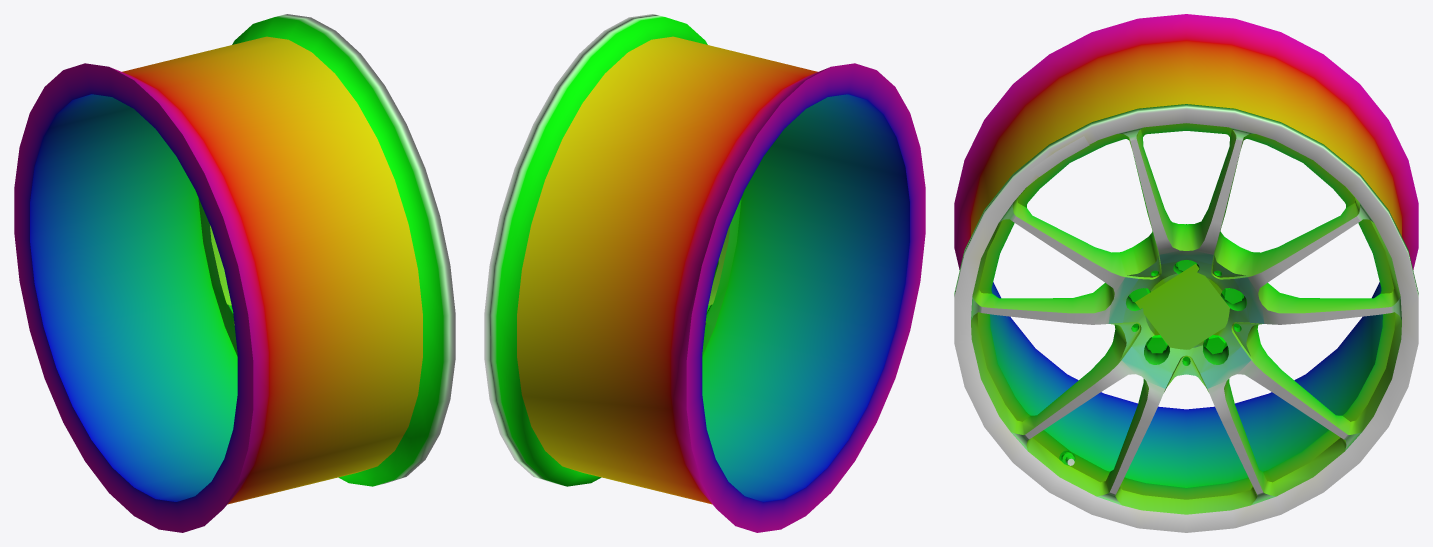
The model's file is Car_MercedesBenz_AMGGT_2015_WheelFL_SetGTR.fbx.
The picture shows the model from 3 angles, left to right: view 1: azimuth 30°, elevation 25°; view 2: azimuth 150°, elevation 25°; view 3: azimuth 270°, elevation 25°; orthographic projection. The views are drawn at different scales.
Visible parts, largest first — view 1: WheelFL 6; view 2: WheelFL 6; view 3: WheelFL 6.
Boxes of the visible parts, box(x1,y1,x2,y2) form: WheelFL 6: box(14, 14, 455, 532); WheelFL 6: box(484, 14, 925, 532); WheelFL 6: box(954, 14, 1418, 532).
Size of the model in its own units: 0.2571 by 0.5169 by 0.5141.
